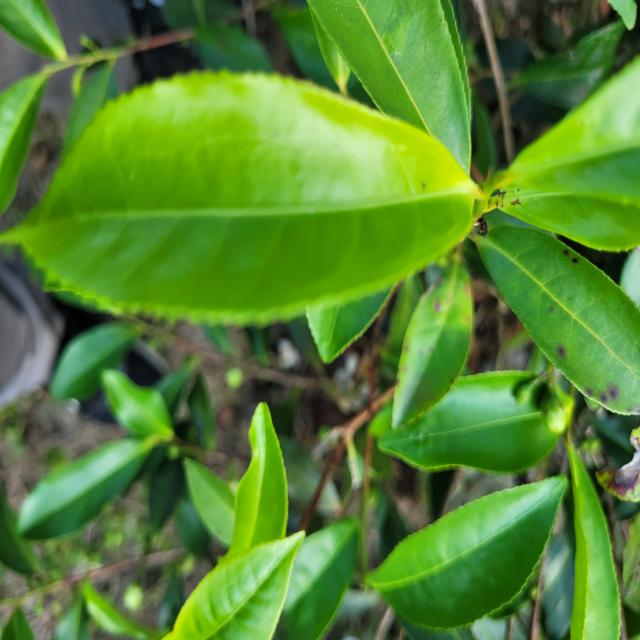Category B 2-4 days: (0, 52, 492, 361)
